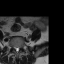CCS_normal: (16, 45, 17, 54)
LFS_normal: (19, 43, 22, 49)
LLS_normal: (17, 44, 19, 51)
RFS_normal: (12, 43, 14, 50)
RLS_normal: (14, 45, 16, 51)
